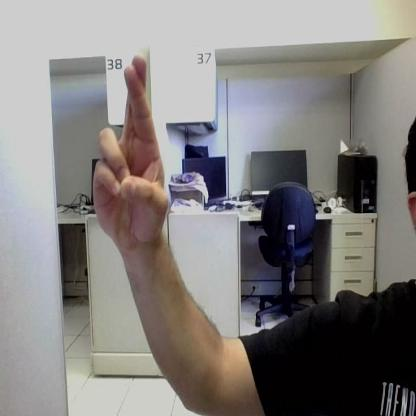R: (93, 56, 167, 240)
